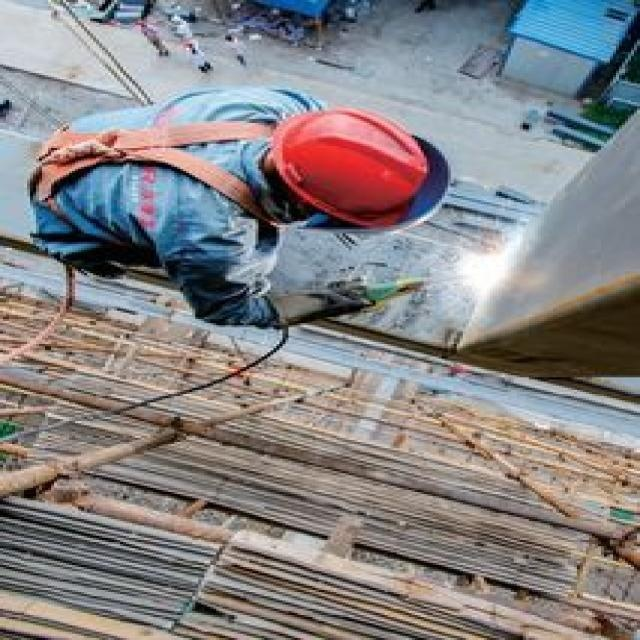Arnes_seguridad: (12, 102, 285, 238)
